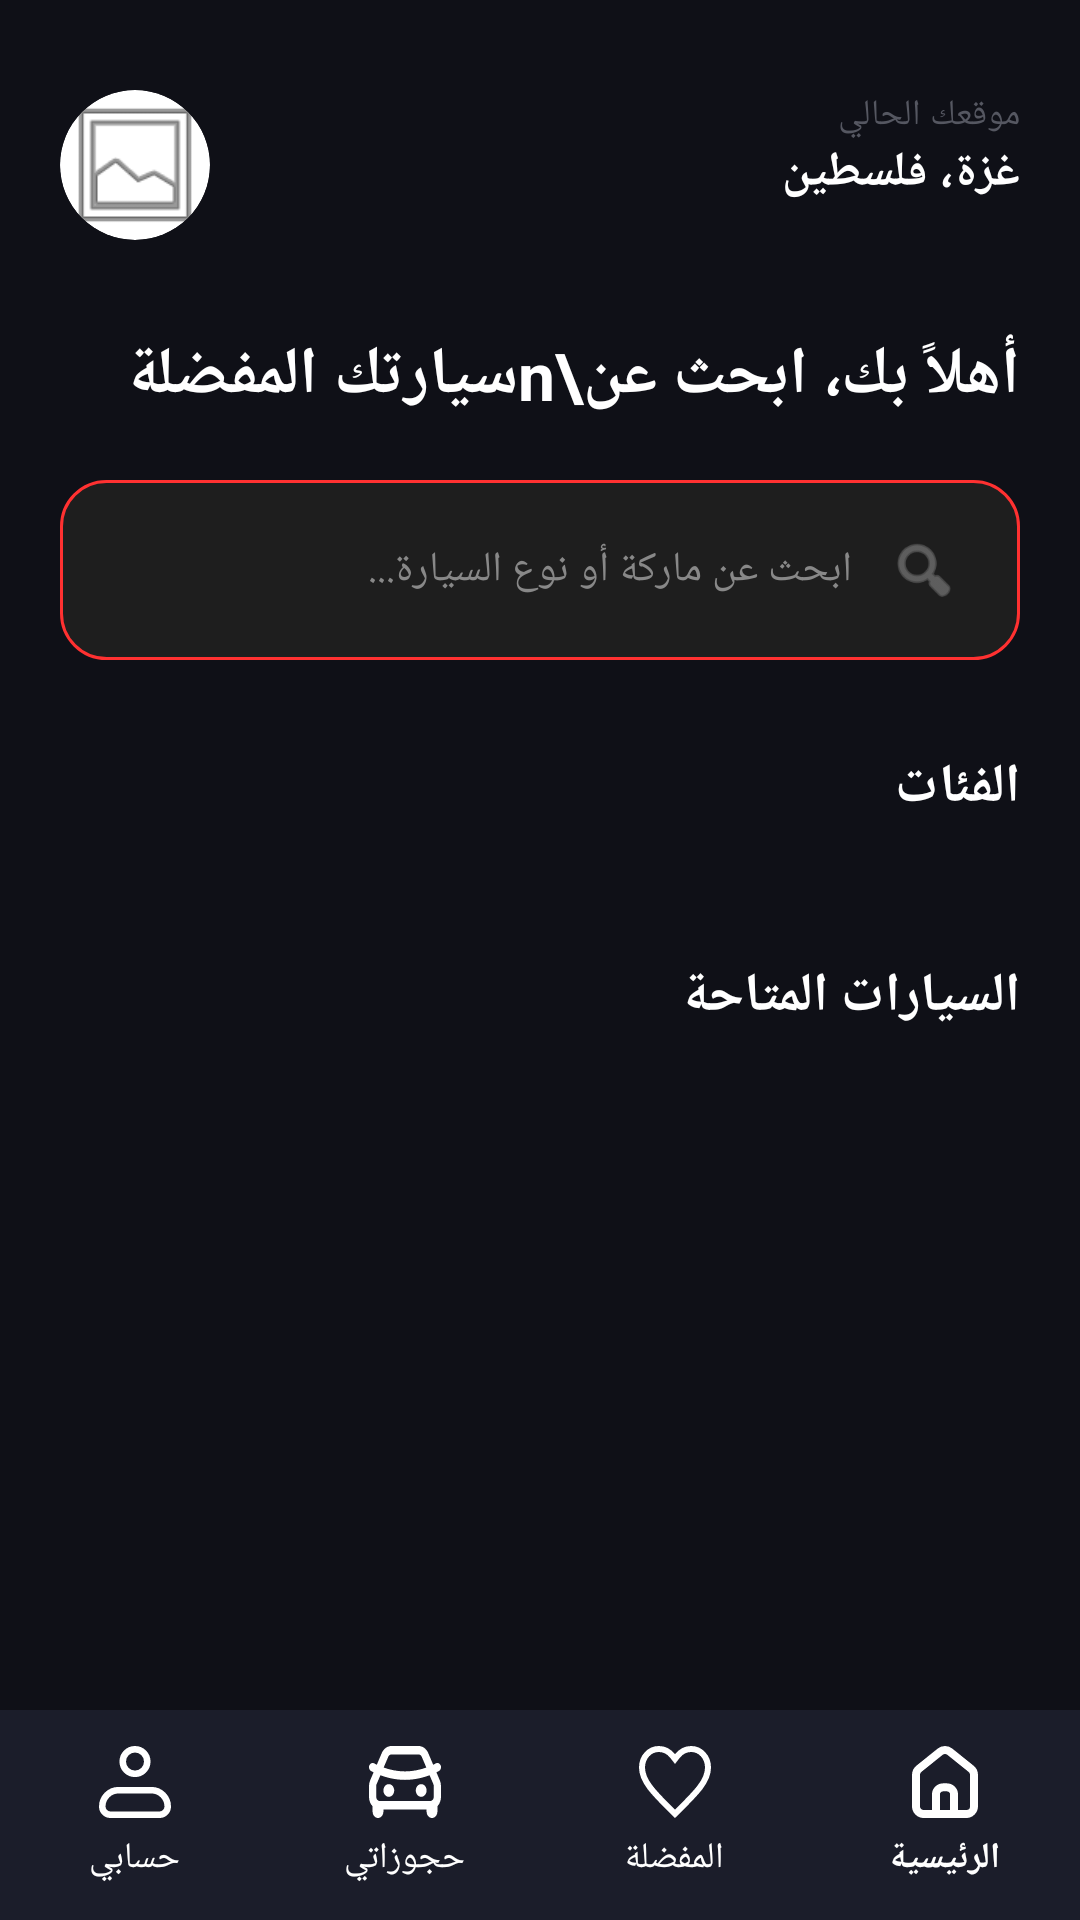

Screen size 1080*1920. Icon name, then its box in pixels as (x1, y1, x2, y2):
gallery: (60, 90, 210, 240)
search: (898, 544, 950, 597)
